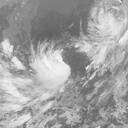cyclone: (32, 51, 75, 91), (90, 8, 127, 48)
